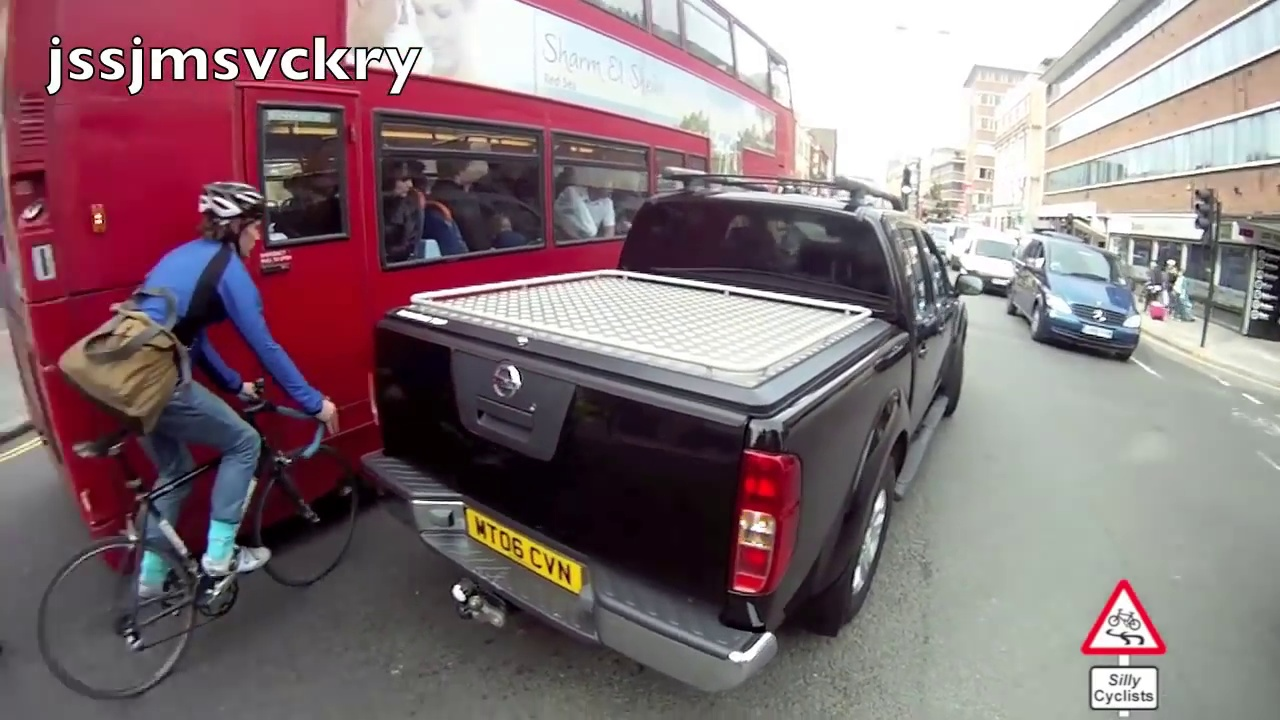cyclist_side: (39, 174, 370, 700)
